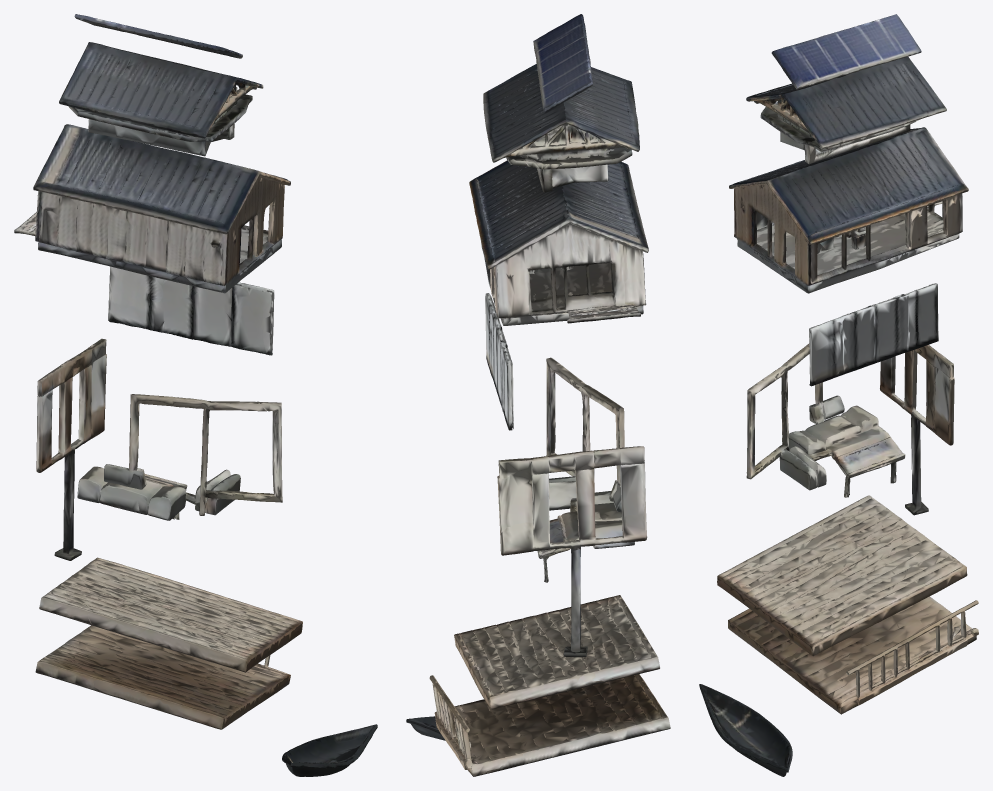
The model's file is cottage-exploded.glb.
3 views of the same model, side by side, from view 1: azimuth 30°, elevation 25°; view 2: azimuth 150°, elevation 25°; view 3: azimuth 270°, elevation 25° (orthographic). The views are drawn at different scales.
Parts seen in each view (by area): view 1: model-a-cluster-3; view 2: model-a-cluster-3; view 3: model-a-cluster-3.
Part boxes in pixels (x1,y1,x2,y2): model-a-cluster-3: (14,14,377,776); model-a-cluster-3: (406,14,670,776); model-a-cluster-3: (699,14,978,776).
Size of the model in its own units: 0.2653 by 0.6267 by 0.2389.
1 material, 1 textured.
